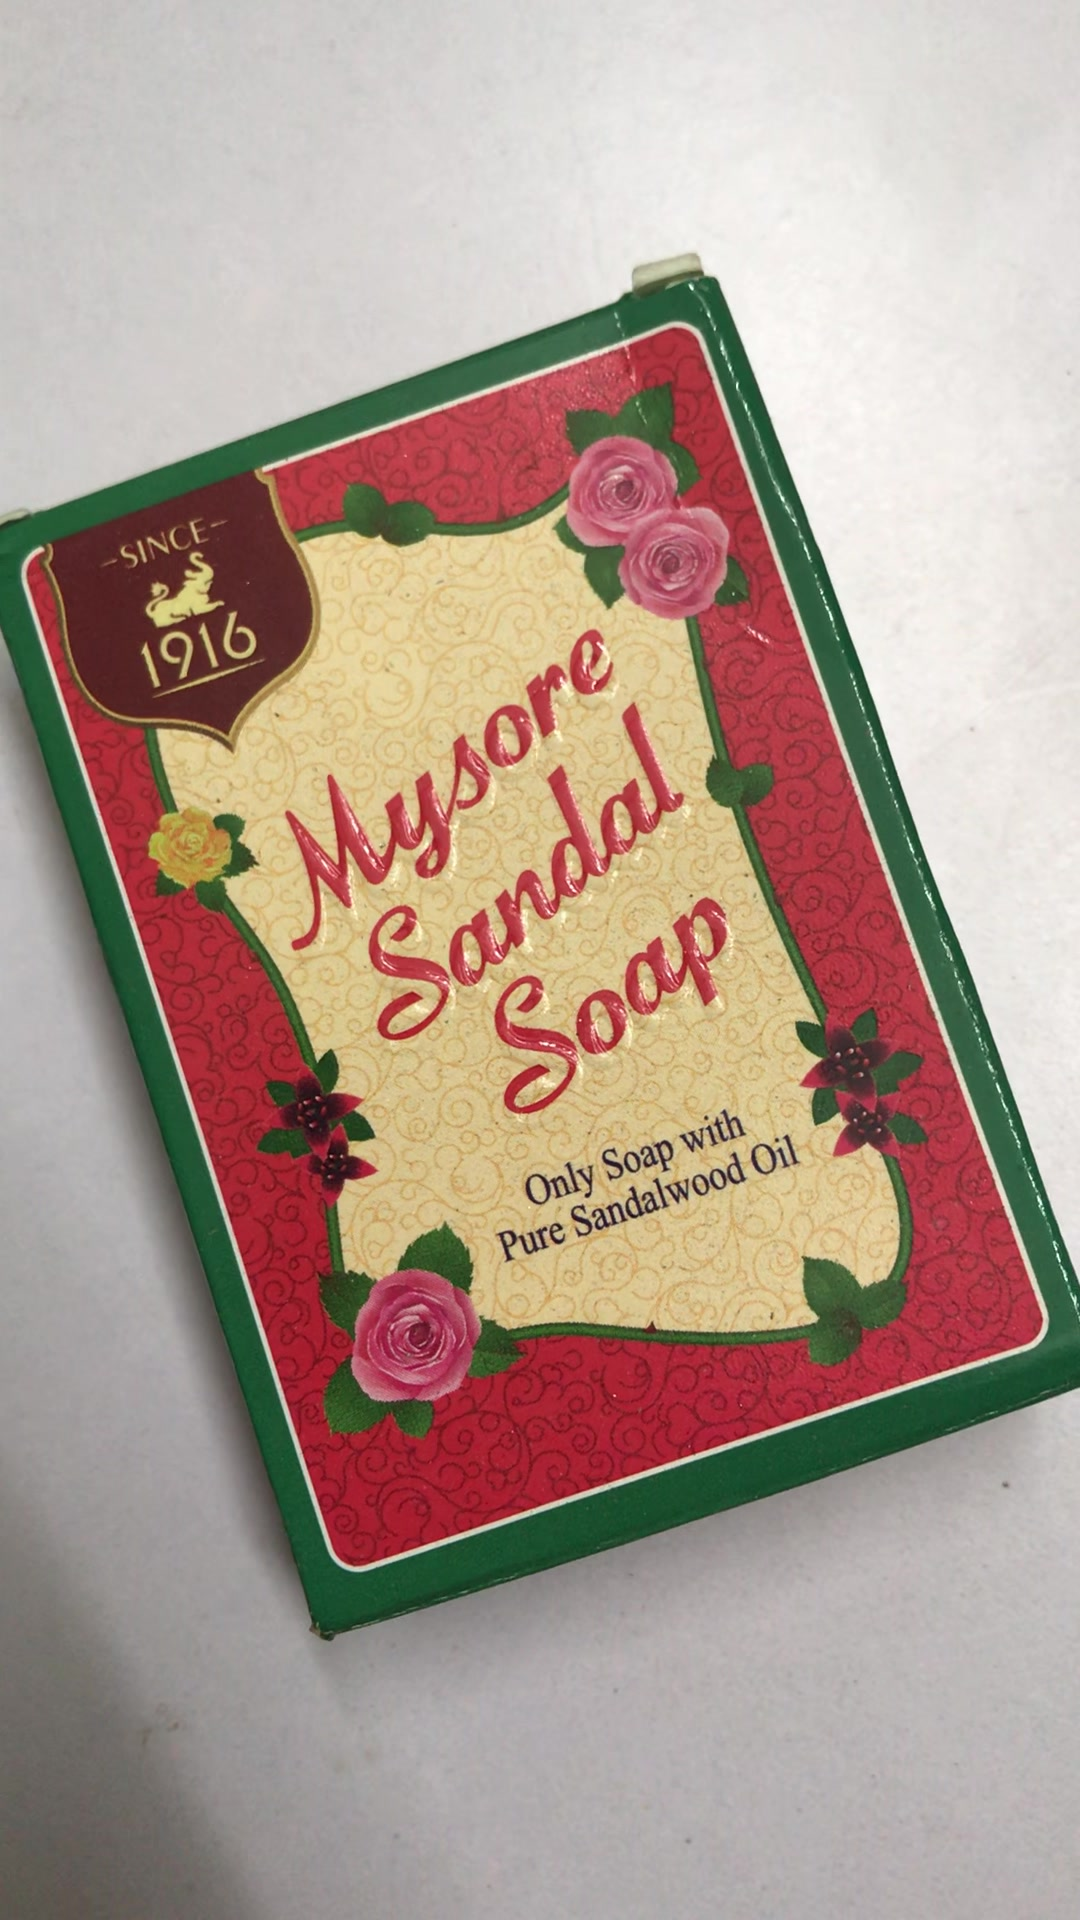mysore sandal soap: (1, 277, 1080, 1644)
